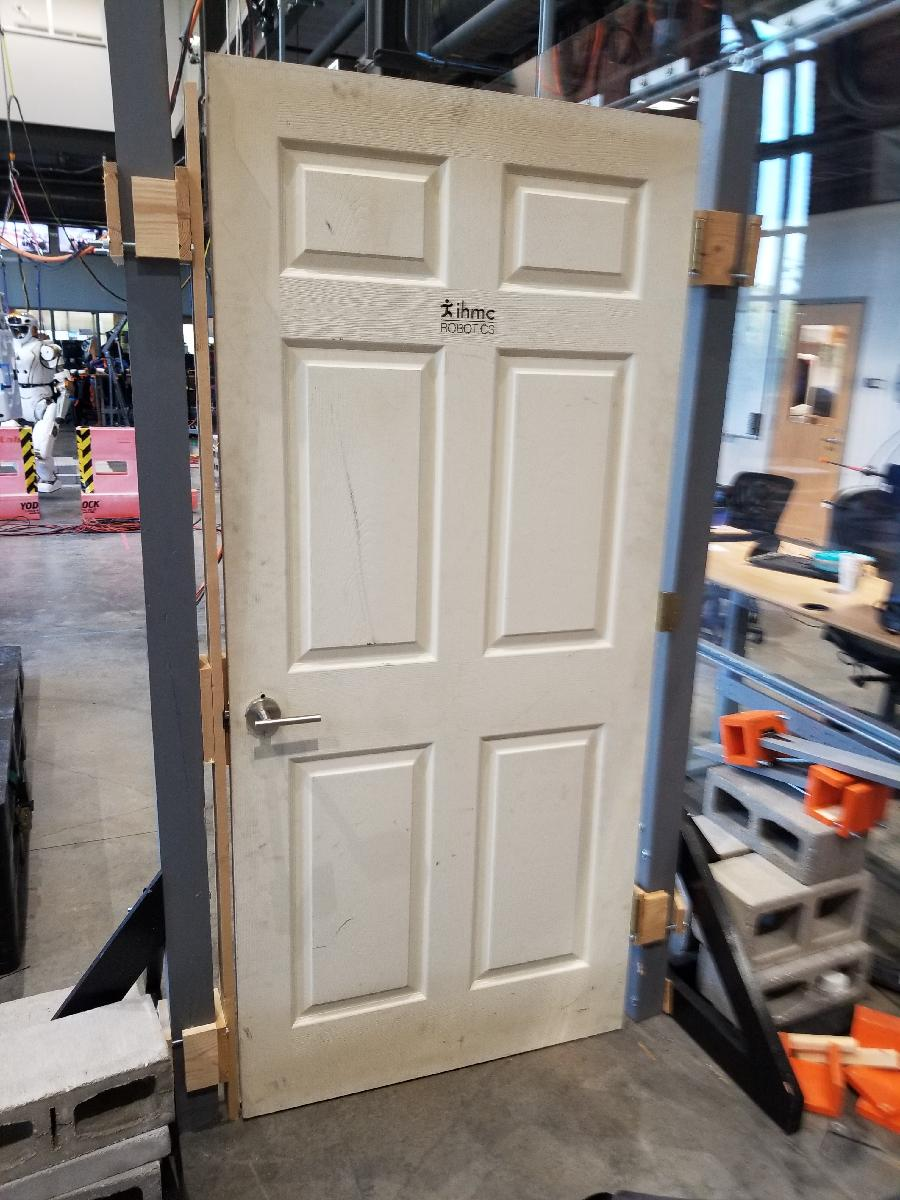door: (197, 45, 709, 1131)
doorHandle: (234, 696, 328, 735)
